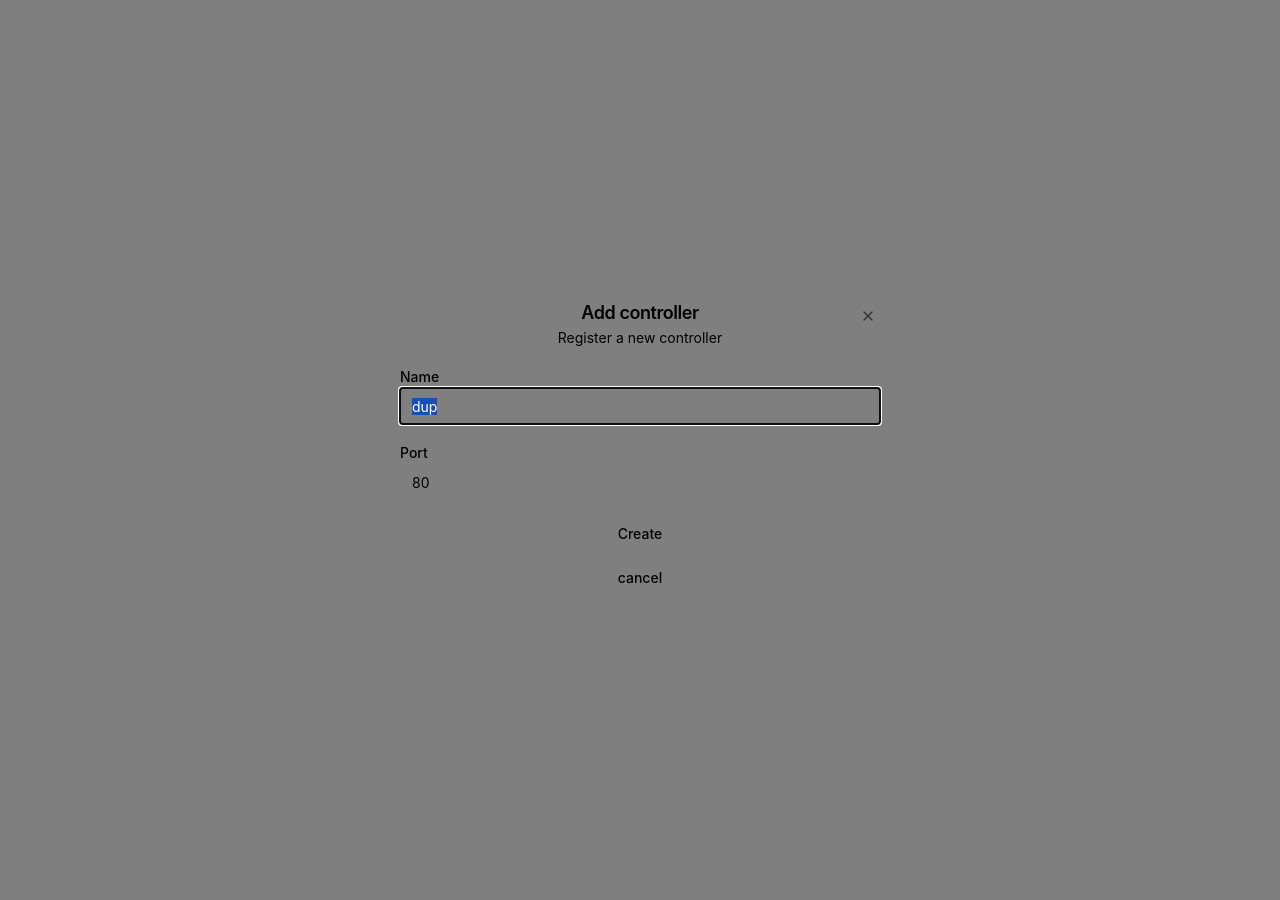
Test: FormDialog › extracts axios-style detail field from a server error
Click the button "Create". click: {"x": 640, "y": 534}
box: top-left (400, 516), bottom-right (880, 552)
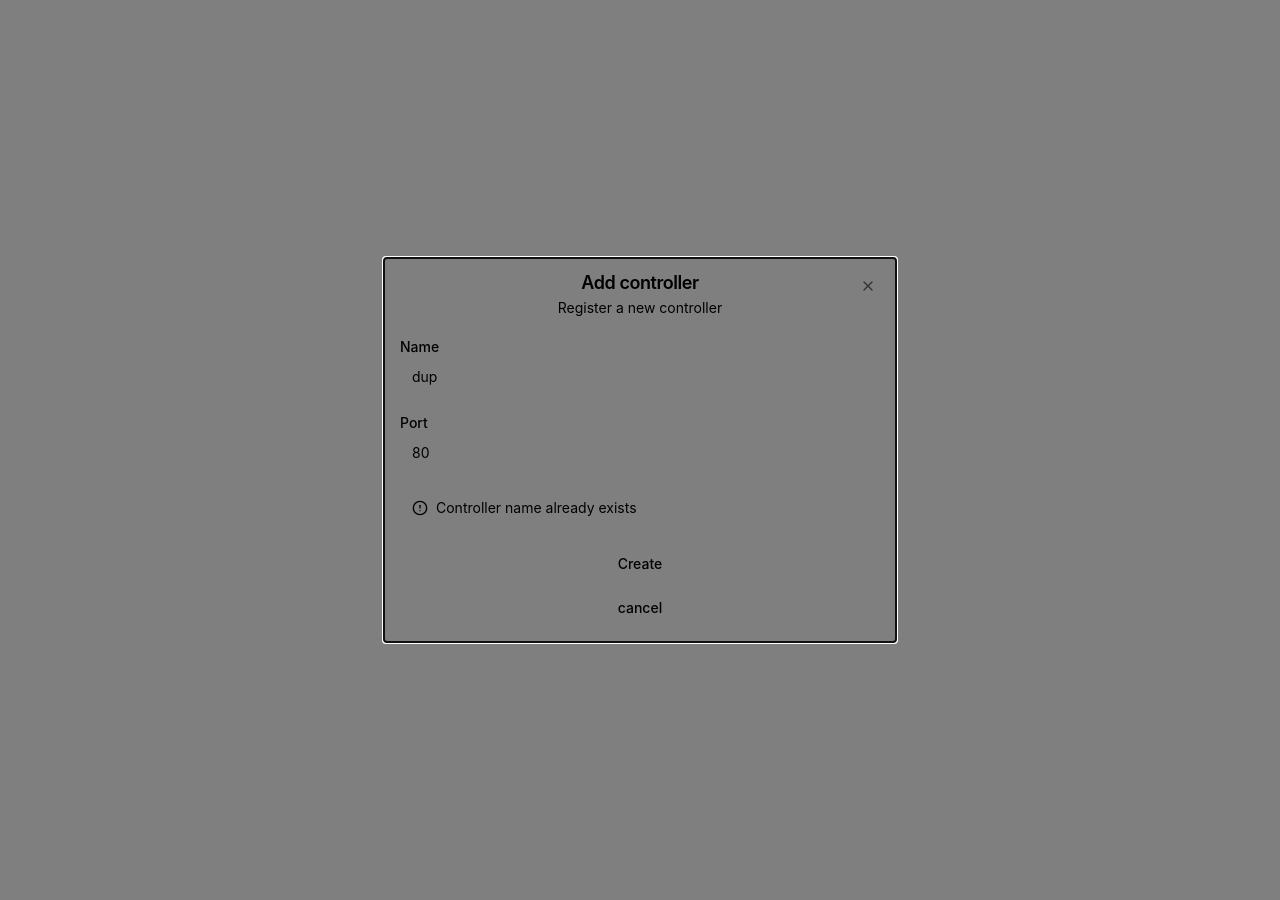
Expected: the text "Controller name already exists" is shown, top-left (436, 498), bottom-right (637, 518)
